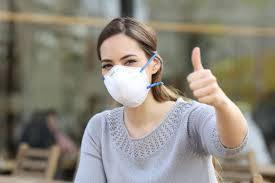mask: (104, 63, 158, 109)
